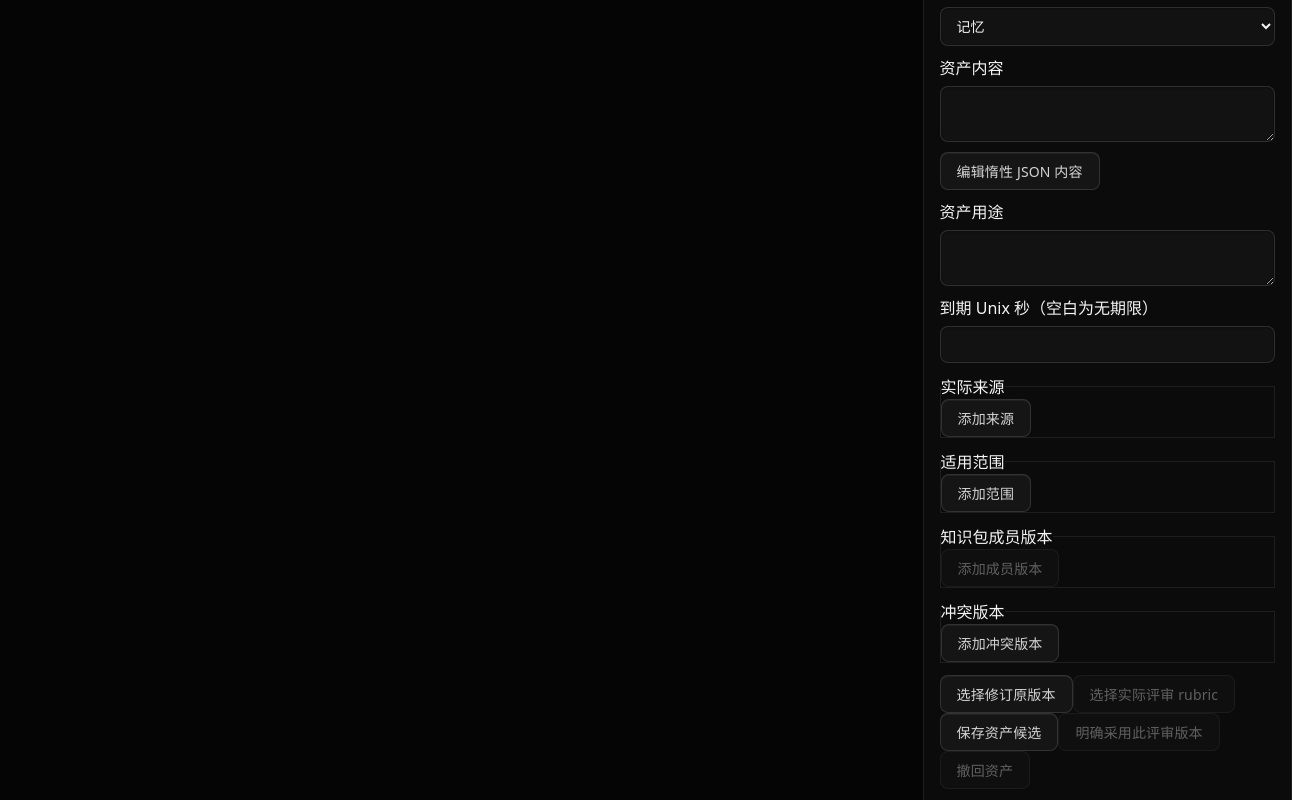
rejects wrong document_id ACK even when metadata/body match
What coordinates should you click on to do the following:
click the button "保存资产候选"
I would click on:
 (999, 732)
Its box is [940, 712, 1058, 750].
(page scrolled)
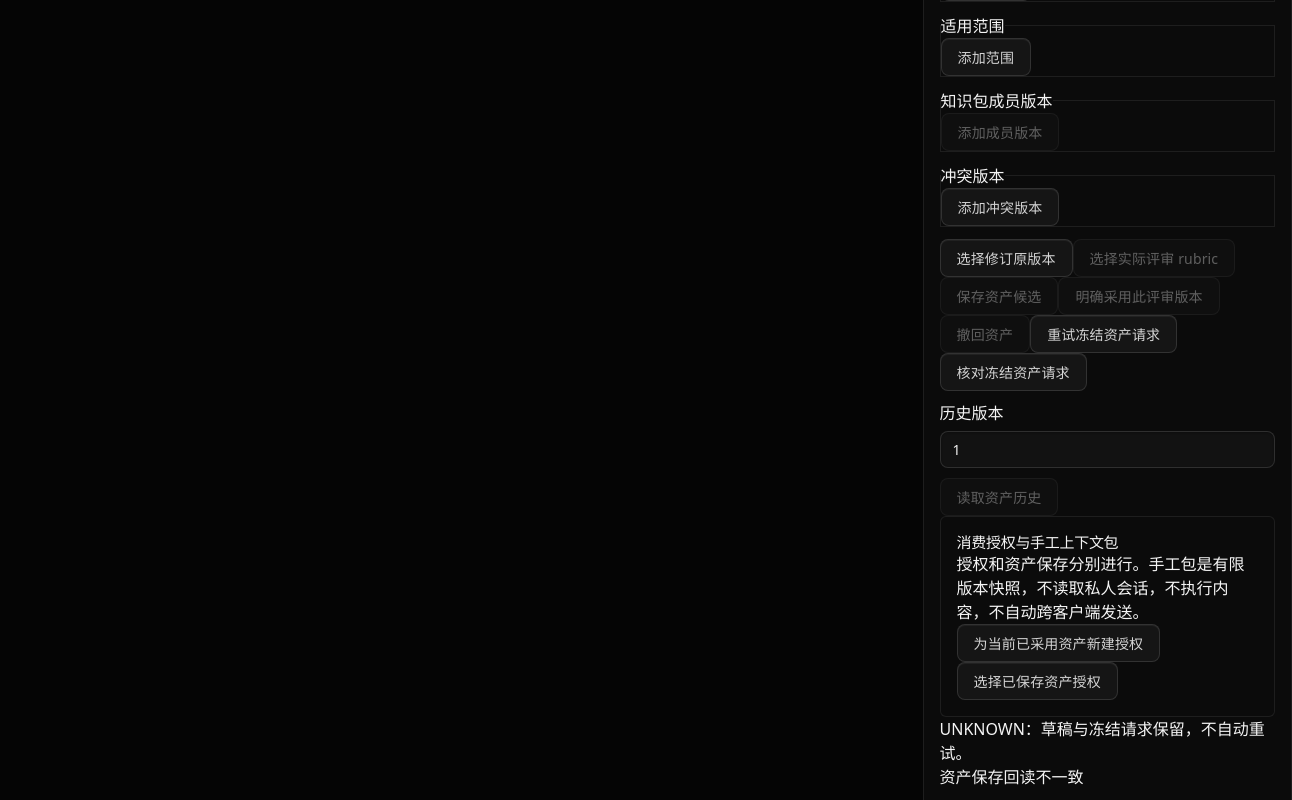
Check: the message "资产保存回读不一致" is shown, box [940, 766, 1084, 788]
Check: the button "核对冻结资产请求" is shown, box [940, 352, 1087, 390]
